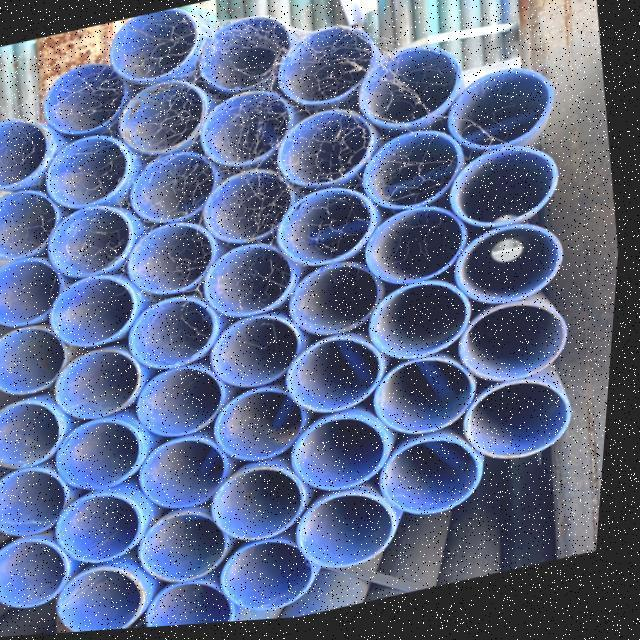pipe: (467, 374, 577, 465), (463, 299, 574, 388), (451, 71, 552, 160), (452, 154, 557, 232), (462, 231, 567, 309), (378, 361, 483, 439), (384, 444, 490, 520), (302, 495, 403, 574), (281, 111, 379, 192), (375, 288, 478, 365), (283, 191, 381, 270), (292, 338, 390, 416), (226, 538, 326, 614), (298, 416, 394, 495), (359, 54, 458, 130), (217, 468, 318, 542), (367, 136, 463, 213), (279, 31, 375, 108), (370, 214, 471, 287), (202, 93, 295, 169), (142, 511, 237, 583), (204, 170, 295, 245), (214, 320, 305, 394), (220, 392, 312, 465), (298, 264, 388, 338), (134, 297, 222, 372), (199, 19, 289, 92), (58, 419, 149, 491), (146, 436, 234, 510), (141, 368, 230, 441), (51, 276, 140, 349), (122, 81, 207, 157), (133, 150, 219, 225), (58, 348, 146, 421), (128, 225, 218, 296), (210, 247, 298, 319), (109, 10, 200, 79), (50, 207, 135, 279), (46, 63, 130, 135), (65, 492, 150, 563), (48, 138, 130, 211), (0, 464, 73, 536), (68, 569, 150, 633), (0, 323, 71, 394), (5, 536, 76, 605), (0, 397, 68, 469), (0, 188, 63, 263), (0, 258, 67, 326), (156, 585, 246, 630), (0, 121, 49, 191)
